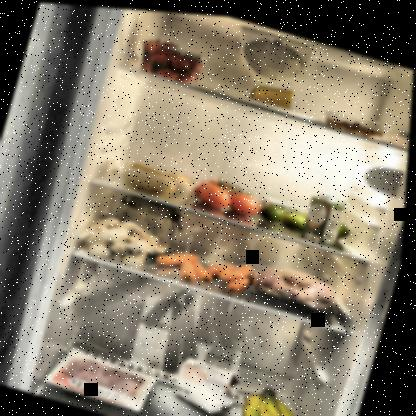banana: (238, 374, 330, 415)
carrot: (156, 237, 264, 296)
cheese: (249, 74, 298, 109)
chicken: (250, 252, 354, 320)
heavy_cream: (302, 182, 351, 244)
lime: (258, 194, 356, 242)
mushrooms: (80, 209, 172, 275)
potato: (119, 153, 204, 204)
shrimp: (323, 108, 391, 138)
strawberries: (131, 29, 211, 86)
tomato: (192, 165, 268, 218)
